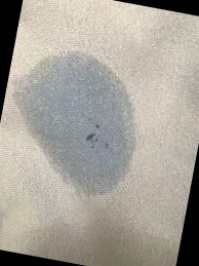ink: (22, 45, 150, 194)
